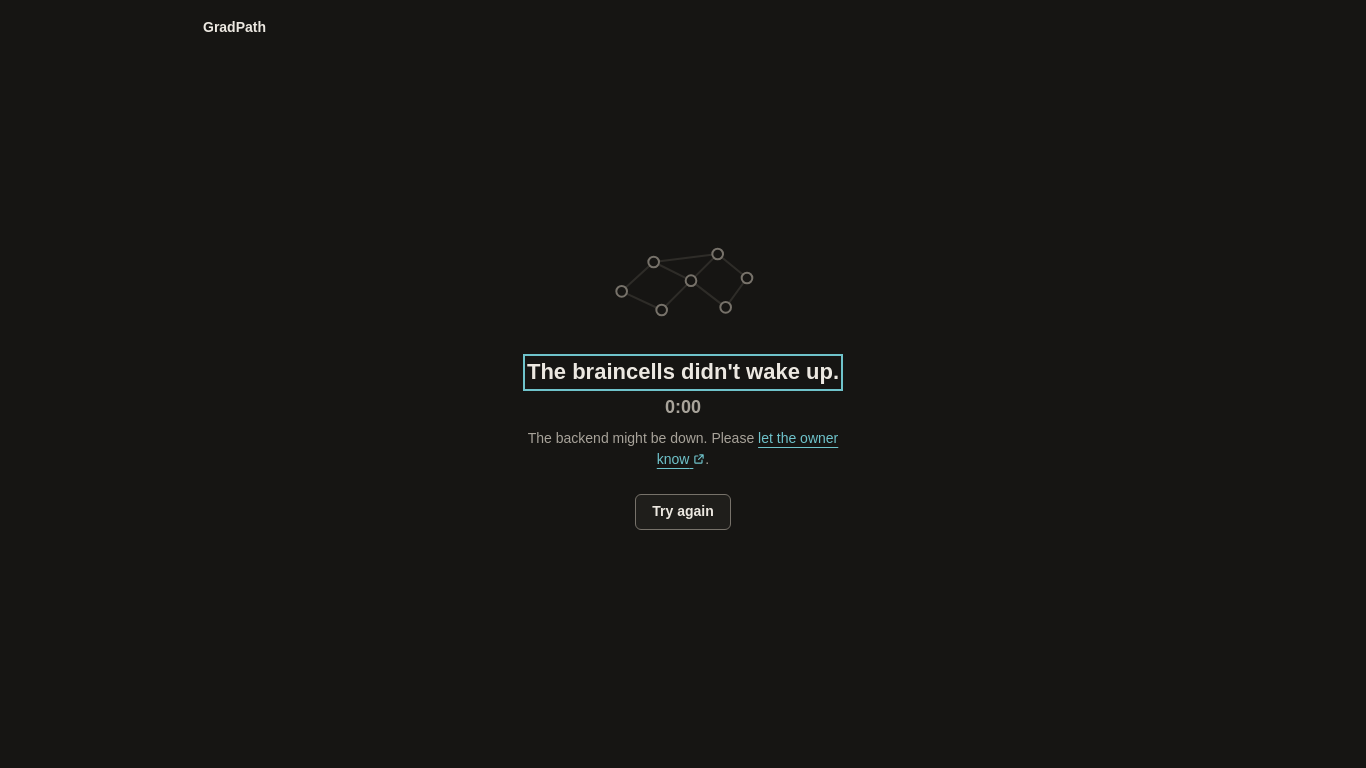
Test: Try again keeps focus on the screen, restarts the announcements, and can succeed
Later steps or results of the test are not shown.
Click the button "Try again". click: (683, 512)
box: [635, 494, 731, 530]
Wait 65450 ms
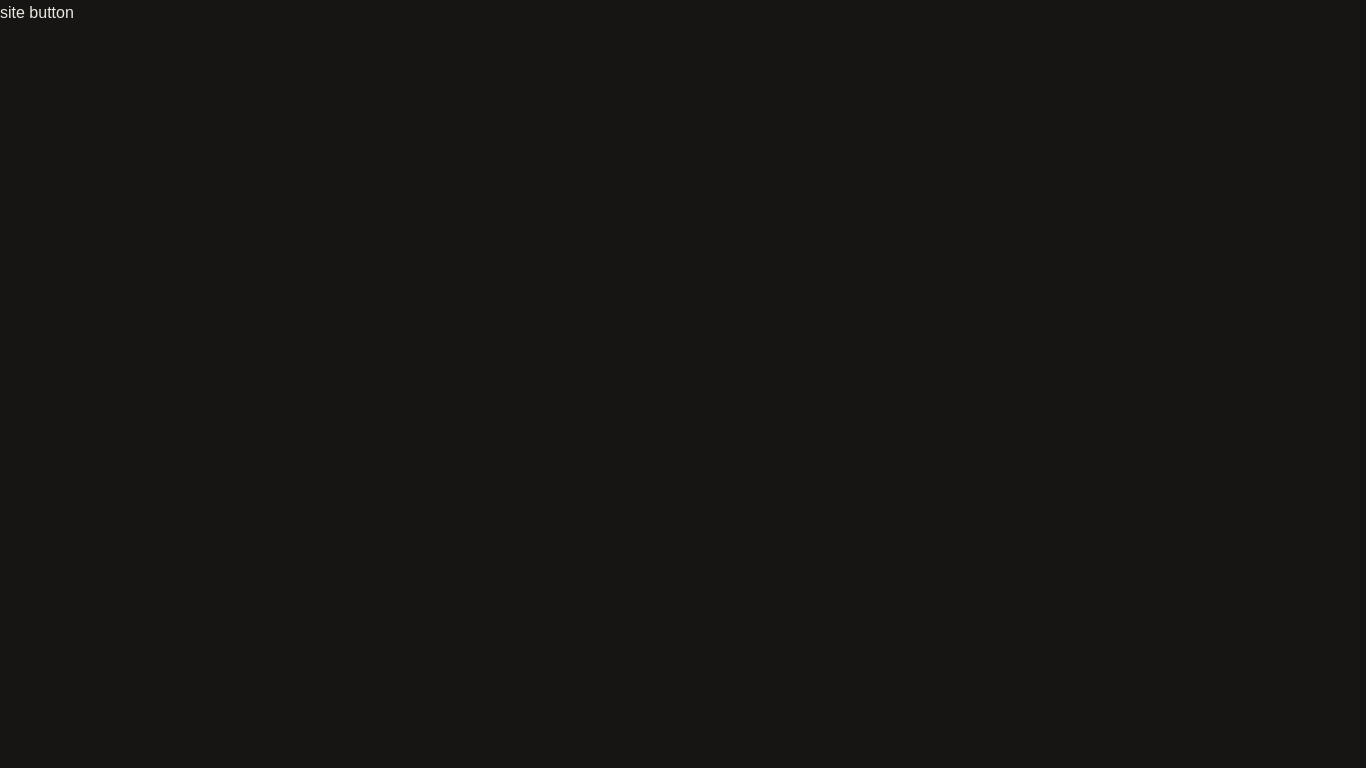
Result: the element with test id "wake-screen" is gone
